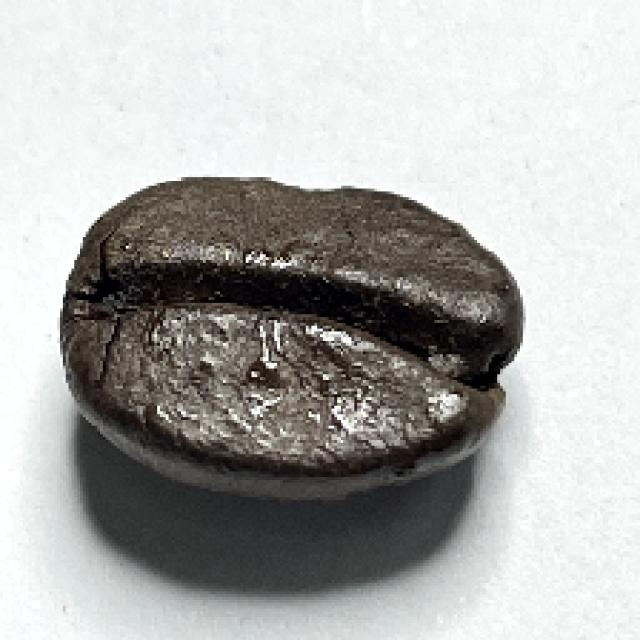bean: (60, 176, 525, 499)
